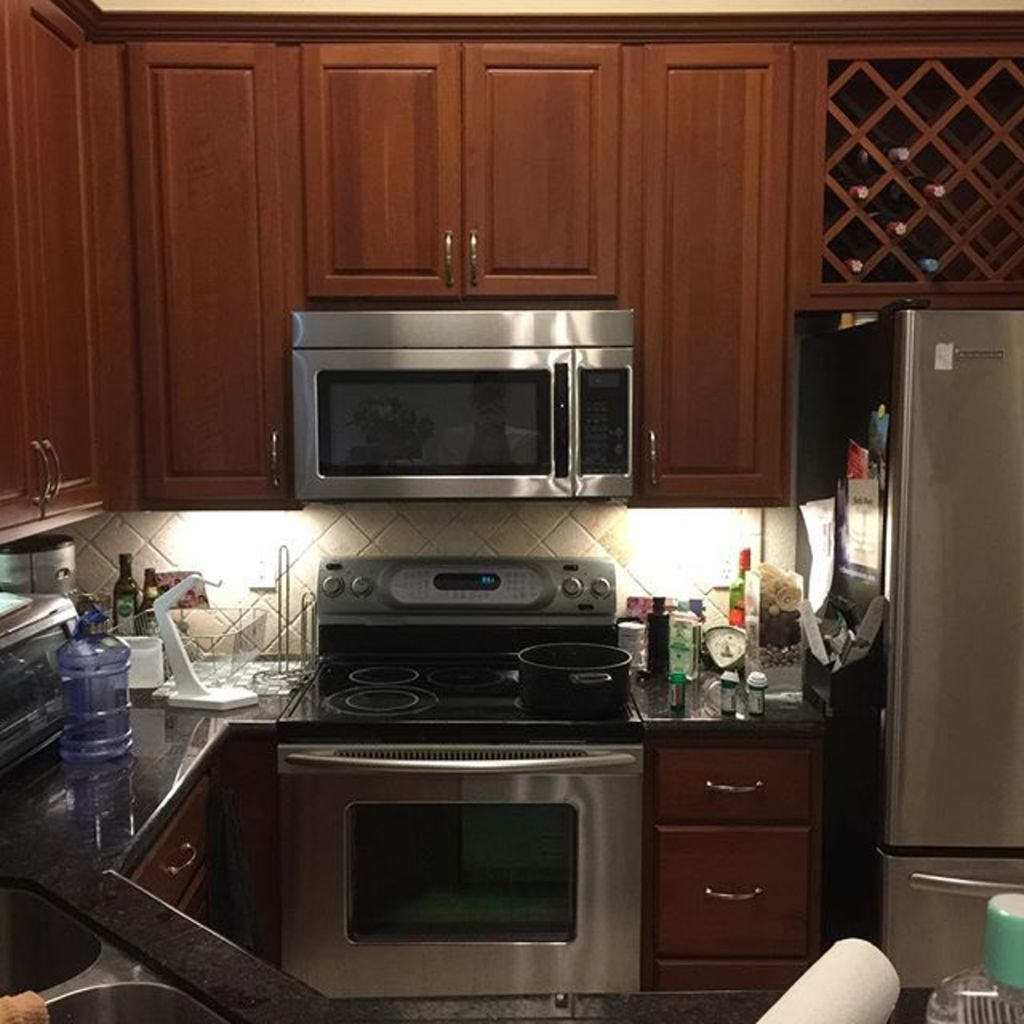cabinet door: (130, 53, 285, 501), (636, 58, 780, 501), (298, 48, 461, 294), (463, 58, 619, 302), (38, 48, 103, 505), (662, 828, 814, 953), (0, 54, 33, 503), (662, 747, 812, 828), (135, 801, 209, 902)
handle: (299, 741, 627, 788), (907, 865, 1019, 916), (700, 873, 766, 914), (706, 769, 765, 808), (159, 839, 199, 883), (44, 432, 67, 506), (29, 444, 50, 511), (643, 430, 662, 494), (441, 230, 459, 294), (466, 232, 481, 292), (268, 431, 283, 489)
refrigerator door: (914, 310, 1024, 849), (898, 860, 1024, 993)
